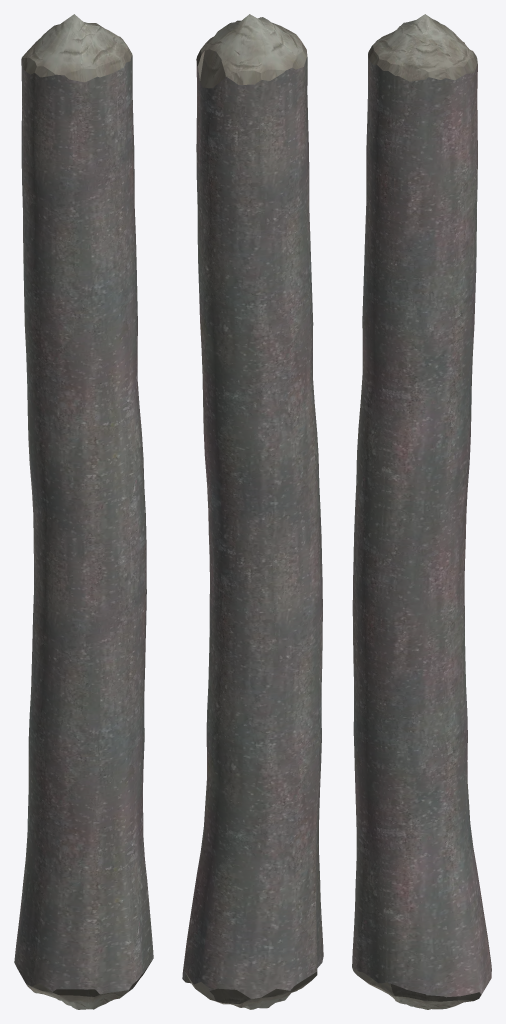
3 renders of one model, left to right at view 1: azimuth 90°, elevation 25°; view 2: azimuth 150°, elevation 25°; view 3: azimuth 330°, elevation 25°, orthographic.
Parts seen in each view (by area): view 1: SM_GF_Ash_Tree_03_half_bottom_LOD0; view 2: SM_GF_Ash_Tree_03_half_bottom_LOD0; view 3: SM_GF_Ash_Tree_03_half_bottom_LOD0.
Boxes of the visible parts, x1,y1,x2,y2 form: SM_GF_Ash_Tree_03_half_bottom_LOD0: (14, 14, 153, 1009); SM_GF_Ash_Tree_03_half_bottom_LOD0: (182, 14, 323, 1009); SM_GF_Ash_Tree_03_half_bottom_LOD0: (352, 14, 491, 1009).
Size of the model in its own units: 0.5918 by 4.56 by 0.5785.
Materials: 1 (1 with a texture image).
